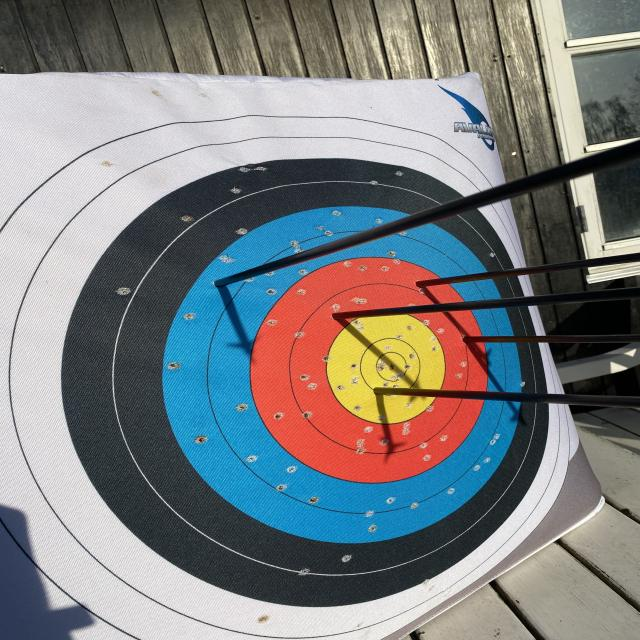Arrow_Blue: (202, 267, 253, 300)
Arrow_Red: (325, 304, 365, 343), (448, 319, 484, 352), (402, 270, 439, 295)
Arrow_Yellow: (363, 371, 405, 408)
